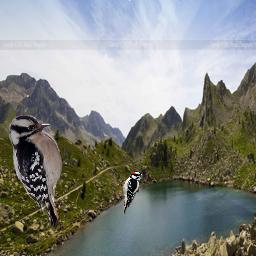Woodpecker: (9, 115, 76, 229), (116, 171, 145, 214)
